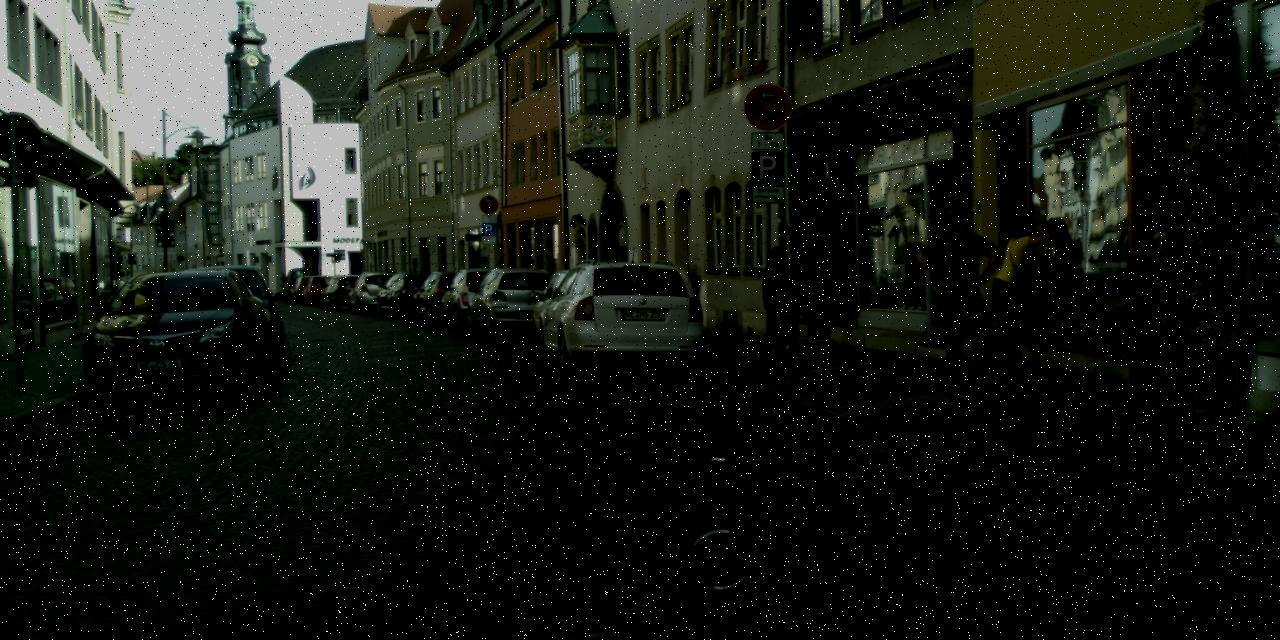ped: (930, 203, 1010, 400), (986, 216, 1051, 377), (757, 245, 802, 355), (112, 271, 129, 313)
